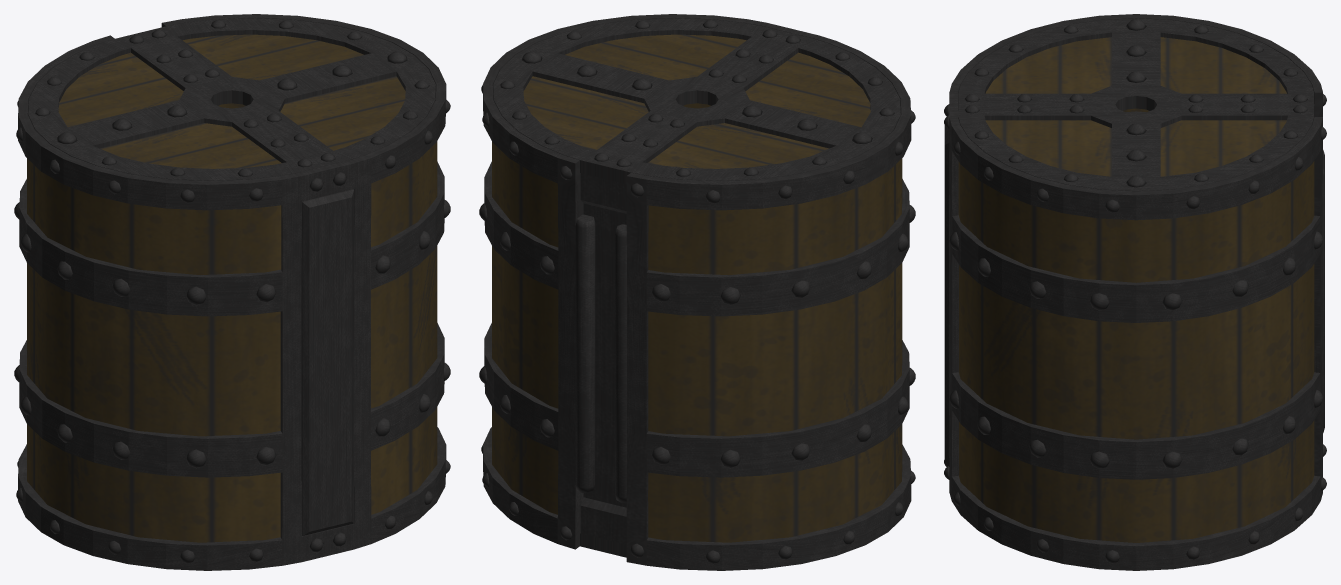
Rendered from SuspiciousChest.fbx.
The picture shows the model from 3 angles, left to right: view 1: azimuth 30°, elevation 25°; view 2: azimuth 150°, elevation 25°; view 3: azimuth 270°, elevation 25°; orthographic projection. The views are drawn at different scales.
Visible parts, largest first — view 1: DoorLWood, DoorLMetal, DoorRMetal, LockCover, DoorRWood, DoorRCapMetal, DoorLCapMetal, DoorLCapWood.001, DoorLCapWood; view 2: DoorLWood, DoorLMetal, DoorRMetal, DoorRWood, DoorRCapMetal, DoorLCapMetal, DoorLCapWood.001, DoorLCapWood, Centerpost, DoorRHinge, DoorLHinge, BaseMetal; view 3: DoorRWood, DoorRMetal, DoorLCapMetal, DoorRCapMetal, DoorLCapWood, DoorLCapWood.001, DoorLMetal, LockCover, DoorRHinge.
Boxes of the visible parts, <box> form: DoorLWood: <box>27,158,281,542</box>; DoorLMetal: <box>18,35,328,570</box>; DoorRMetal: <box>161,14,446,555</box>; LockCover: <box>301,189,353,535</box>; DoorRWood: <box>218,103,437,514</box>; DoorRCapMetal: <box>141,18,435,166</box>; DoorLCapMetal: <box>28,32,323,180</box>; DoorLCapWood.001: <box>183,34,405,150</box>; DoorLCapWood: <box>58,52,281,168</box>; DoorLWood: <box>648,158,902,542</box>; DoorLMetal: <box>626,29,911,570</box>; DoorRMetal: <box>483,14,792,549</box>; DoorRWood: <box>492,103,710,514</box>; DoorRCapMetal: <box>493,18,787,178</box>; DoorLCapMetal: <box>605,32,900,184</box>; DoorLCapWood.001: <box>523,34,746,150</box>; DoorLCapWood: <box>647,52,870,168</box>; Centerpost: <box>580,173,626,544</box>; DoorRHinge: <box>575,214,595,493</box>; DoorLHinge: <box>615,224,626,502</box>; BaseMetal: <box>580,533,626,557</box>; DoorRWood: <box>958,161,1314,542</box>; DoorRMetal: <box>949,104,1322,570</box>; DoorLCapMetal: <box>958,18,1313,110</box>; DoorRCapMetal: <box>958,104,1313,191</box>; DoorLCapWood: <box>985,37,1286,93</box>; DoorLCapWood.001: <box>985,120,1286,176</box>; DoorLMetal: <box>949,14,1322,117</box>; LockCover: <box>944,125,949,466</box>; DoorRHinge: <box>1322,168,1324,432</box>.
Size of the model in its own units: 3.65 by 3.55 by 3.22.
Materials: 4 (2 with a texture image).
